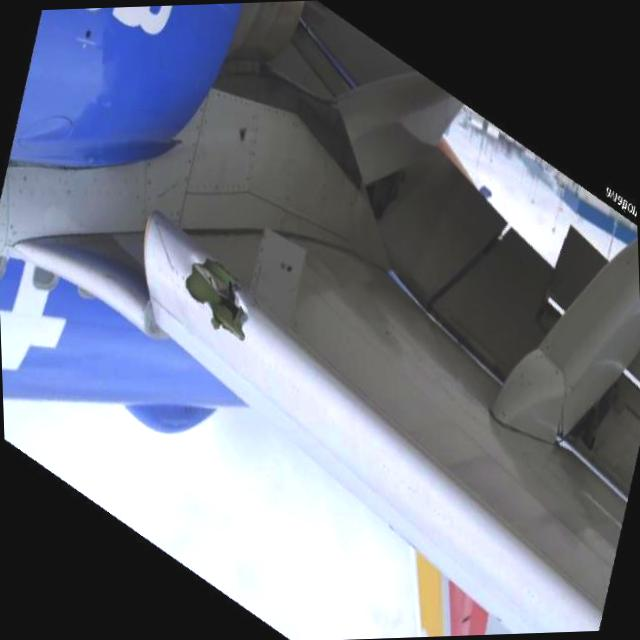crack: (182, 245, 252, 342)
